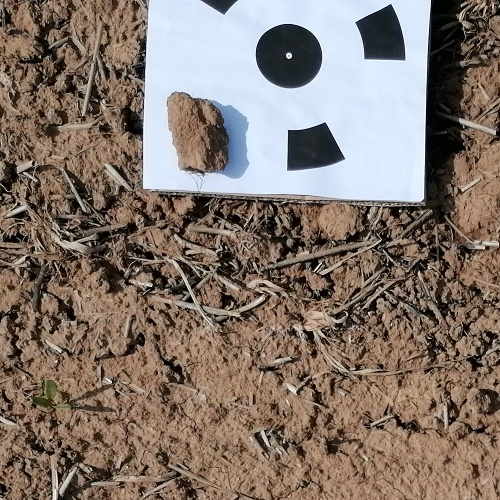beet: (31, 380, 70, 410)
